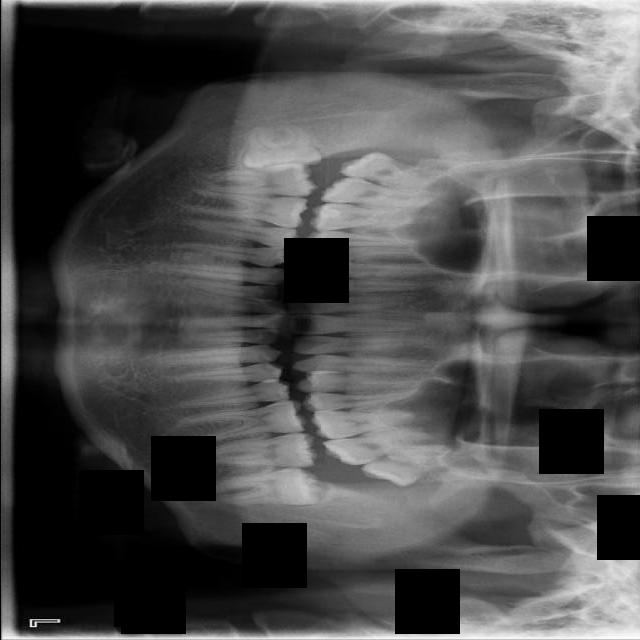3M ESPE Implant: (335, 145, 444, 193)
52: (305, 200, 362, 233), (294, 274, 343, 294)
73: (17, 623, 27, 632)
BioHorizons Implant: (321, 423, 448, 470)
BioLife Implant: (359, 445, 461, 490)
Biomet 3i Implant: (208, 467, 322, 507)
Blue Sky Bio Implant: (197, 432, 319, 473)
Caries: (318, 173, 447, 218)
Implant: (197, 161, 319, 198)
Keystone Dental Implant: (239, 117, 322, 177)
